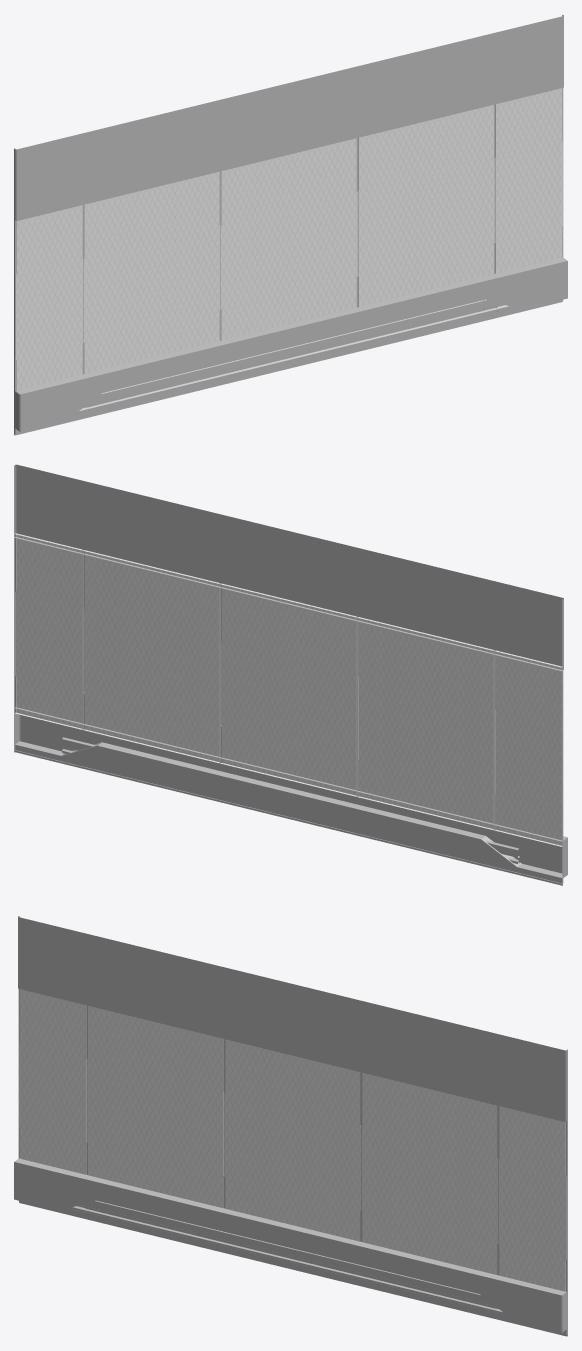
3 views of the same model, one above another, from view 1: azimuth 30°, elevation 25°; view 2: azimuth 150°, elevation 25°; view 3: azimuth 330°, elevation 25° (orthographic).
Visible parts, largest first — view 1: M_W_102_c_16x8; view 2: M_W_102_c_16x8; view 3: M_W_102_c_16x8.
Boxes of the visible parts, x1=… form: M_W_102_c_16x8: x1=14, y1=15, x2=567, y2=435; M_W_102_c_16x8: x1=14, y1=464, x2=567, y2=885; M_W_102_c_16x8: x1=14, y1=916, x2=567, y2=1336.
Size of the model in its own units: 16 by 8 by 0.3002.
